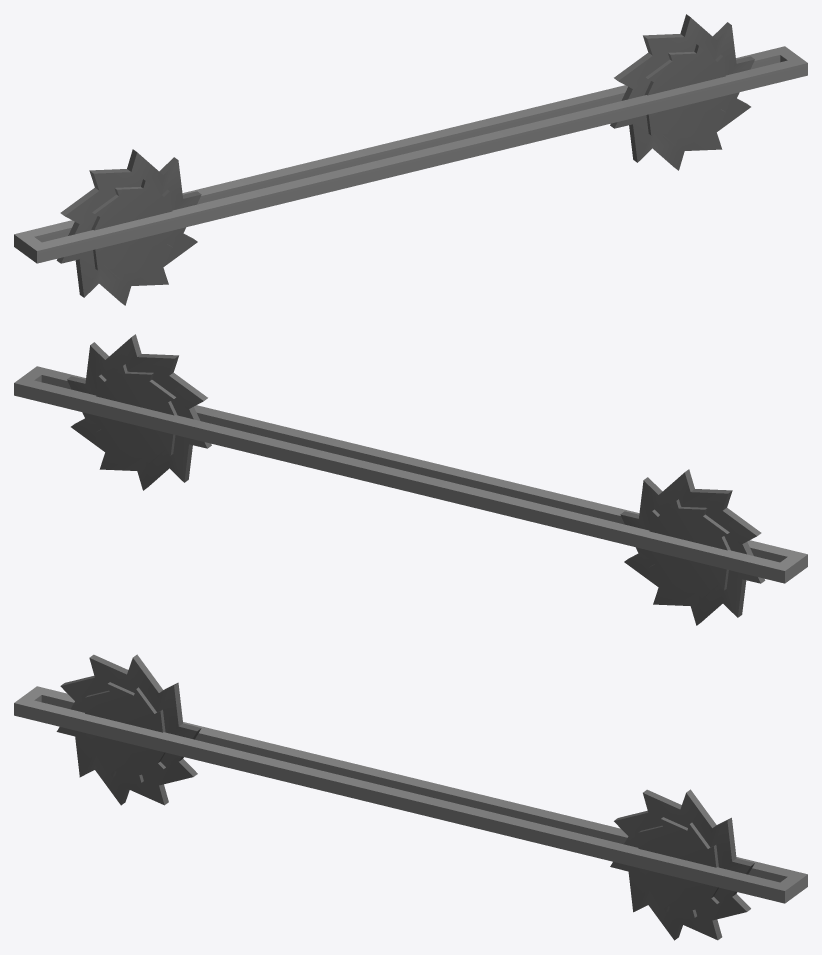
File: Loop_Trap.fbx
3 renders of one model, top to bottom at view 1: azimuth 30°, elevation 25°; view 2: azimuth 150°, elevation 25°; view 3: azimuth 330°, elevation 25°, orthographic.
Parts seen in each view (by area): view 1: Loop_Trap, Loop_Trap_Saw.001, Loop_Trap_Saw; view 2: Loop_Trap, Loop_Trap_Saw.001, Loop_Trap_Saw; view 3: Loop_Trap, Loop_Trap_Saw, Loop_Trap_Saw.001.
Part boxes in pixels (x1,y1,x2,y2): Loop_Trap: (14, 46, 807, 263); Loop_Trap_Saw.001: (56, 149, 201, 305); Loop_Trap_Saw: (610, 14, 754, 170); Loop_Trap: (14, 366, 807, 583); Loop_Trap_Saw.001: (620, 469, 765, 625); Loop_Trap_Saw: (67, 334, 211, 490); Loop_Trap: (14, 686, 807, 903); Loop_Trap_Saw: (610, 789, 754, 940); Loop_Trap_Saw.001: (56, 654, 201, 805).
Size of the model in its own units: 816 by 153 by 42.19.
1 material, 1 textured.
